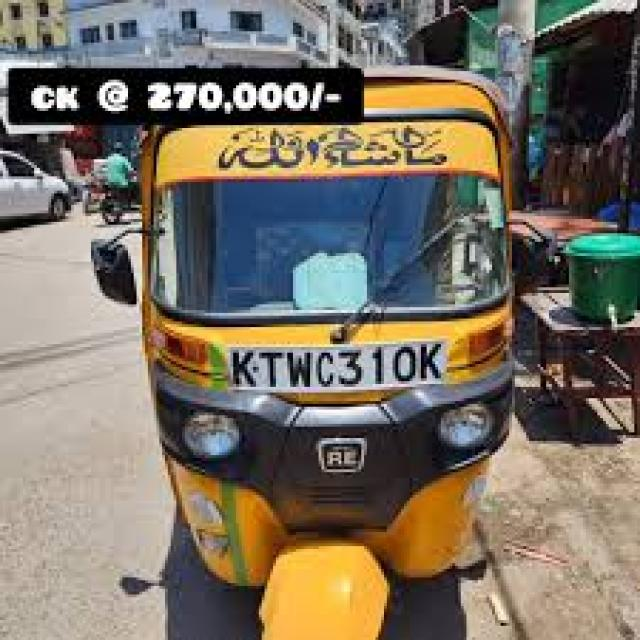tuktuk: (82, 34, 640, 640)
